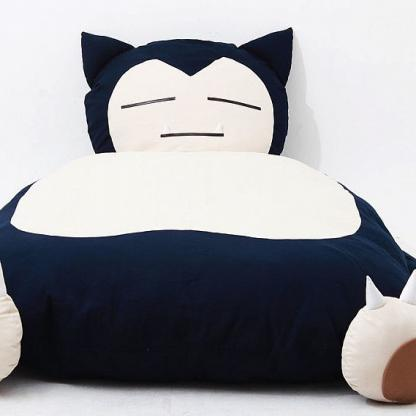Snorlax: (1, 17, 416, 389)
